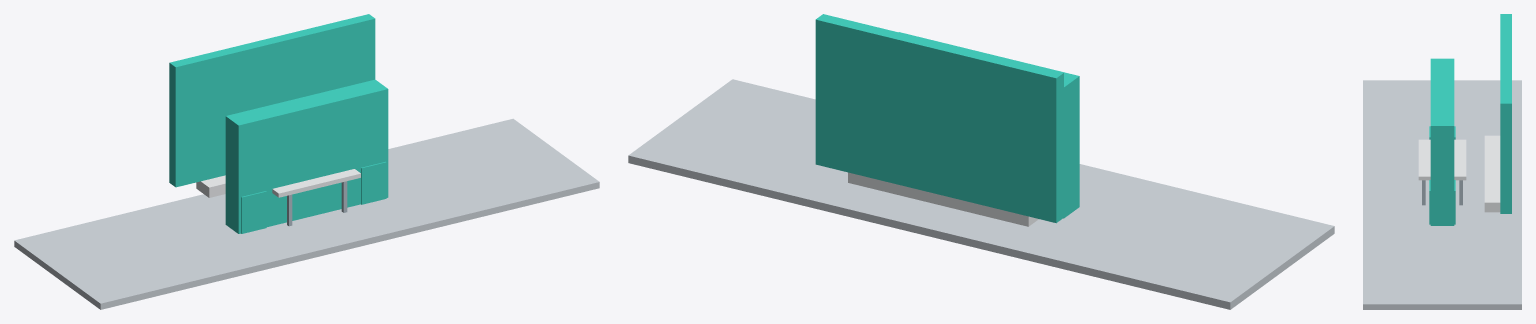
The picture shows the model from 3 angles, left to right: view 1: azimuth 30°, elevation 25°; view 2: azimuth 150°, elevation 25°; view 3: azimuth 270°, elevation 25°; orthographic projection. The views are drawn at different scales.
Parts seen in each view (by area): view 1: Exhibition Booth Concept; view 2: Exhibition Booth Concept; view 3: Exhibition Booth Concept.
Part boxes in pixels (left/top/right/bottom): Exhibition Booth Concept: left=14, top=14, right=599, bottom=309; Exhibition Booth Concept: left=628, top=14, right=1334, bottom=309; Exhibition Booth Concept: left=1363, top=14, right=1521, bottom=309.
Size of the model in its own units: 10 by 2.9 by 3.
